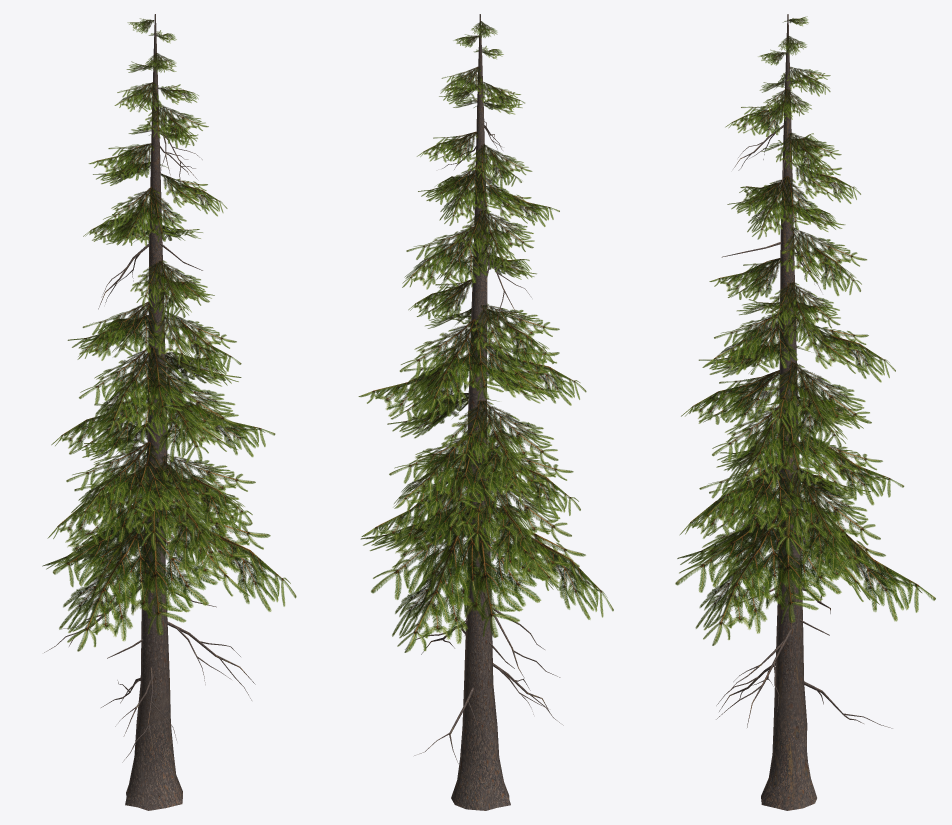
Rendered from pine-sketchfab.glb.
3 renders of one model, left to right at view 1: azimuth 30°, elevation 25°; view 2: azimuth 150°, elevation 25°; view 3: azimuth 270°, elevation 25°, orthographic.
Visible parts, largest first — view 1: Circle.002, Plane.009, Plane.020, Plane.015, Plane.008, Plane.011, Plane.017, Plane.014, Plane.022, Plane.012, Plane.028, Plane.023 (+14 smaller); view 2: Circle.002, Plane.007, Plane.012, Plane.021, Plane.018, Plane.013, Plane.009, Plane.010, Plane.023, Plane.024, Plane.015, Plane.026 (+14 smaller); view 3: Circle.002, Plane.008, Plane.010, Plane.016, Plane.019, Plane.007, Plane.014, Plane.022, Plane.013, Plane.024, Plane.030, Plane.027 (+16 smaller).
Part boxes in pixels (bbox=[...]): Circle.002: bbox=[125, 14, 182, 810]; Plane.009: bbox=[51, 503, 217, 651]; Plane.020: bbox=[79, 346, 201, 434]; Plane.015: bbox=[66, 441, 180, 525]; Plane.008: bbox=[167, 504, 296, 611]; Plane.011: bbox=[126, 469, 250, 571]; Plane.017: bbox=[122, 373, 238, 463]; Plane.014: bbox=[152, 453, 255, 532]; Plane.022: bbox=[154, 310, 241, 376]; Plane.012: bbox=[47, 469, 149, 544]; Plane.028: bbox=[103, 186, 186, 245]; Plane.023: bbox=[77, 301, 162, 360]; Circle.002: bbox=[451, 14, 510, 810]; Plane.007: bbox=[371, 504, 547, 652]; Plane.012: bbox=[449, 472, 571, 576]; Plane.021: bbox=[399, 319, 522, 412]; Plane.018: bbox=[442, 400, 558, 493]; Plane.013: bbox=[389, 436, 505, 515]; Plane.009: bbox=[490, 503, 613, 619]; Plane.010: bbox=[361, 470, 471, 552]; Plane.023: bbox=[472, 303, 559, 370]; Plane.024: bbox=[402, 226, 487, 289]; Plane.015: bbox=[483, 442, 580, 518]; Plane.026: bbox=[454, 210, 534, 272]; Circle.002: bbox=[761, 14, 816, 810]; Plane.008: bbox=[675, 504, 850, 645]; Plane.010: bbox=[760, 472, 880, 576]; Plane.016: bbox=[755, 360, 871, 452]; Plane.019: bbox=[712, 402, 835, 487]; Plane.007: bbox=[801, 504, 935, 621]; Plane.014: bbox=[697, 456, 801, 528]; Plane.022: bbox=[704, 311, 797, 374]; Plane.013: bbox=[795, 434, 904, 505]; Plane.024: bbox=[781, 227, 866, 295]; Plane.030: bbox=[737, 176, 820, 239]; Plane.027: bbox=[761, 282, 840, 346].
Bounding box in the file's own units: 10.3 × 29.89 × 10.16.
2 materials, 2 textured.
